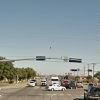Car: (25, 77, 38, 88)
